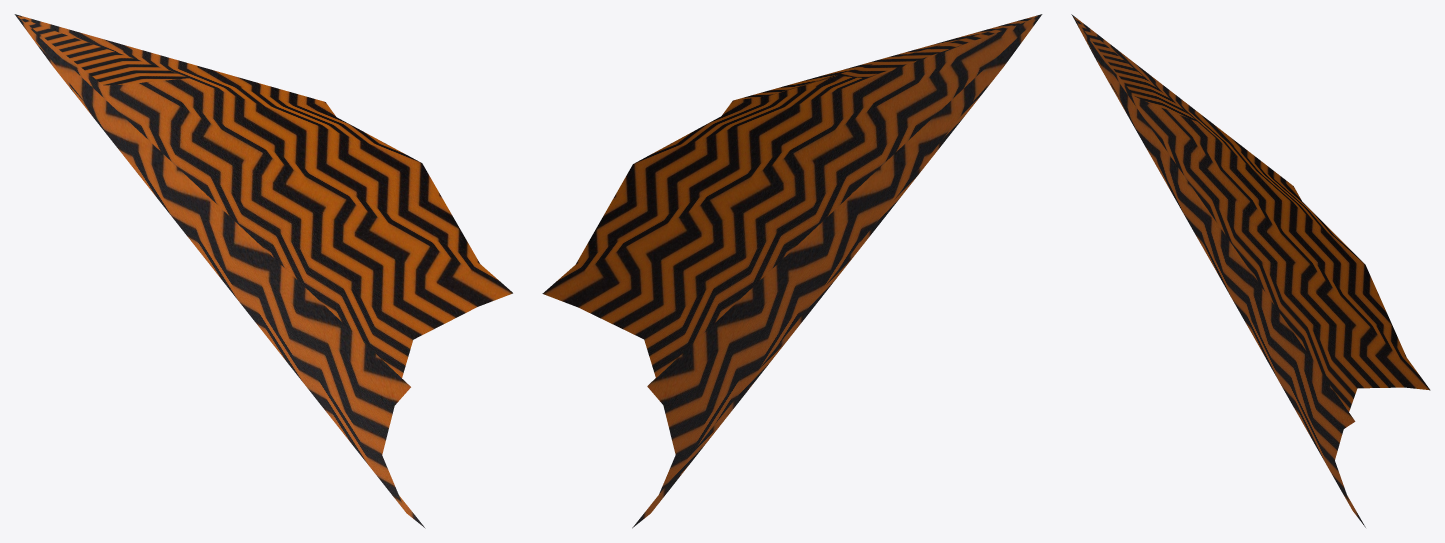
3 views of the same model, side by side, from view 1: azimuth 30°, elevation 25°; view 2: azimuth 150°, elevation 25°; view 3: azimuth 330°, elevation 25° (orthographic). The views are drawn at different scales.
Visible parts, largest first — view 1: Origami_Model_64; view 2: Origami_Model_64; view 3: Origami_Model_64.
Boxes of the visible parts, x1,y1,x2,y2 form: Origami_Model_64: (14, 14, 512, 528); Origami_Model_64: (542, 14, 1042, 528); Origami_Model_64: (1071, 14, 1430, 527).
Bounding box in the file's own units: 0.8 × 0.9414 × 0.00426.
Materials: 1 (1 with a texture image).
